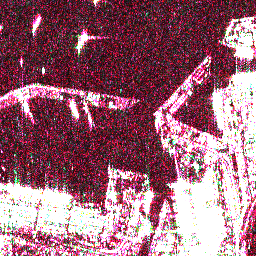ship: (29, 13, 43, 36), (74, 31, 89, 52)
